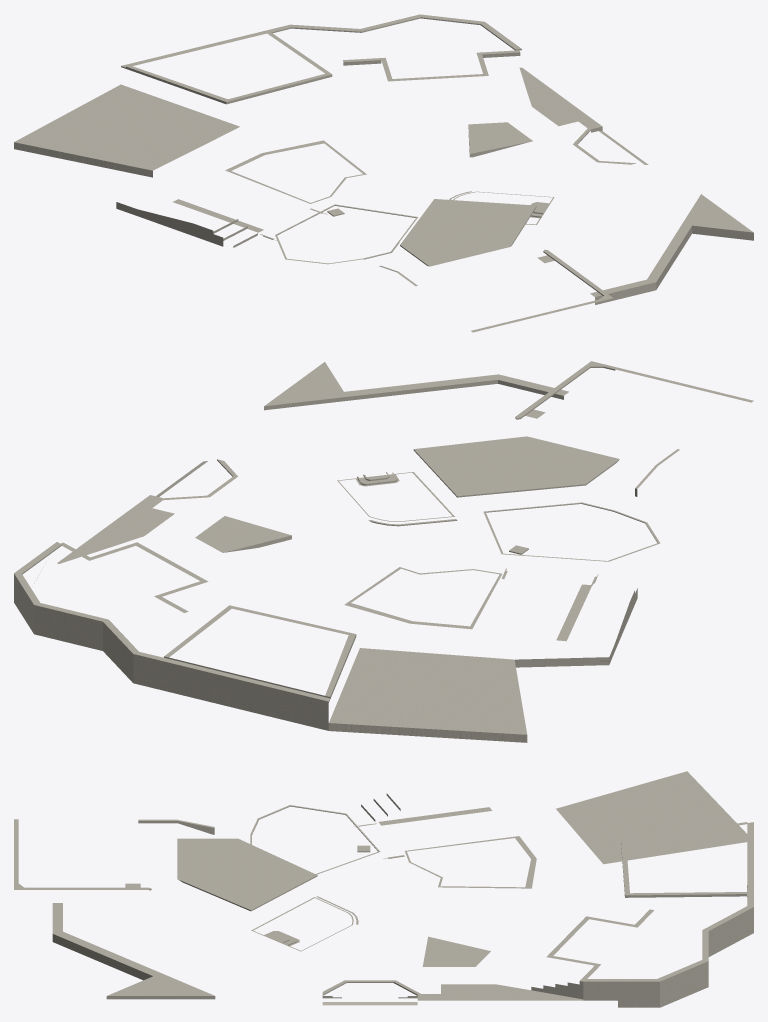
File: kd_connection_town-ground_surface_3_0.glb
3 renders of one model, top to bottom at view 1: azimuth 30°, elevation 25°; view 2: azimuth 150°, elevation 25°; view 3: azimuth 270°, elevation 25°, orthographic. The views are drawn at different scales.
Visible parts, largest first — view 1: kd_connection_town-ground_surface_3_0; view 2: kd_connection_town-ground_surface_3_0; view 3: kd_connection_town-ground_surface_3_0.
Part boxes in pixels (x1,y1,x2,y2): kd_connection_town-ground_surface_3_0: [14, 14, 753, 332]; kd_connection_town-ground_surface_3_0: [14, 361, 753, 742]; kd_connection_town-ground_surface_3_0: [14, 771, 753, 1007].
Bounding box in the file's own units: 20.71 × 1.15 × 28.22.
Materials: 1 (1 with a texture image).
